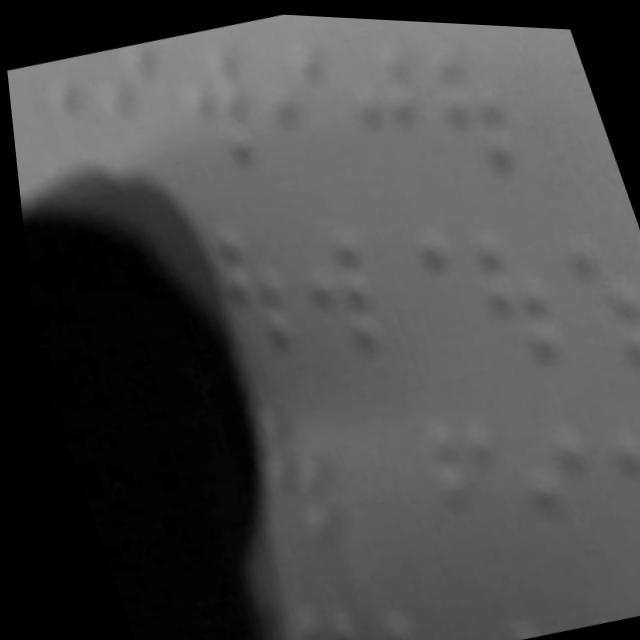braiile: (323, 22, 445, 185), (283, 205, 401, 372), (493, 402, 613, 566), (399, 387, 517, 553), (187, 199, 299, 364), (155, 25, 271, 178), (414, 26, 526, 184), (372, 215, 483, 374), (243, 26, 356, 178), (455, 216, 564, 366), (550, 225, 640, 379), (580, 399, 640, 574)
